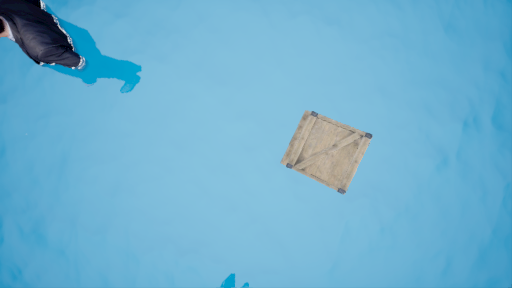person: (1, 2, 154, 90)
